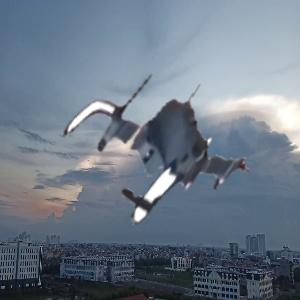drone: (63, 61, 251, 249)
